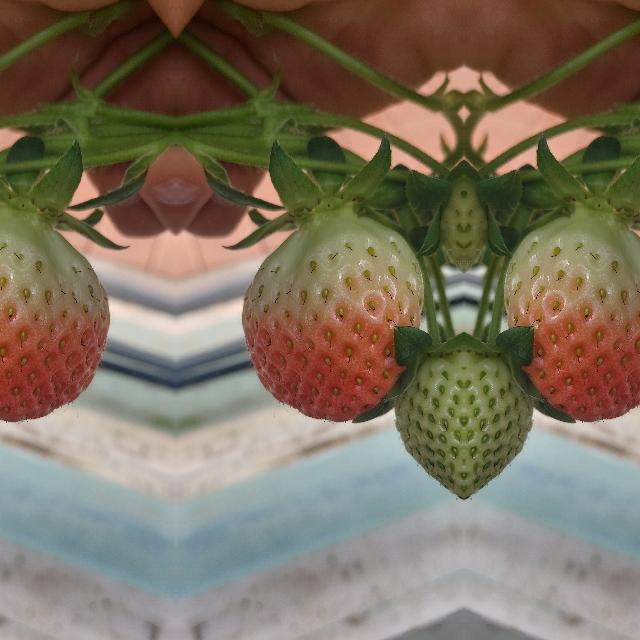Health_25: (398, 318, 460, 502), (466, 318, 528, 502)
Health_75: (240, 207, 422, 421), (503, 207, 640, 421), (0, 207, 110, 421)
